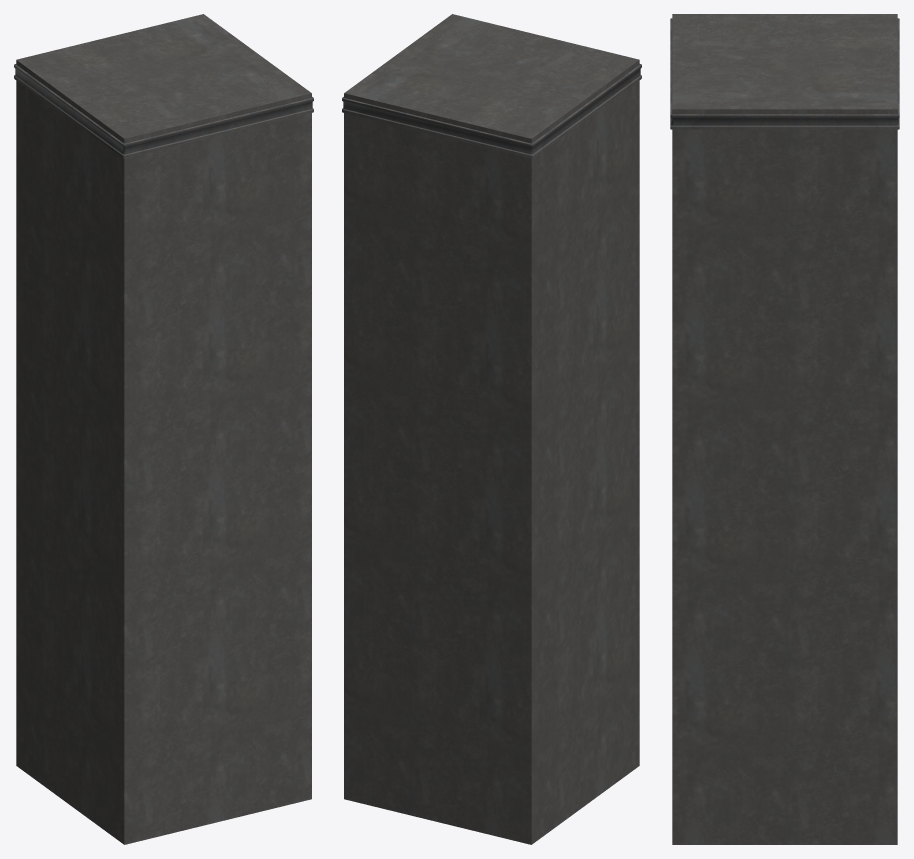
The model's file is platforme_med.fbx.
3 renders of one model, left to right at view 1: azimuth 30°, elevation 25°; view 2: azimuth 150°, elevation 25°; view 3: azimuth 270°, elevation 25°, orthographic. The views are drawn at different scales.
Parts seen in each view (by area): view 1: Box046; view 2: Box046; view 3: Box046.
Part boxes in pixels (box(x1,y1,x2,y2)): Box046: box(14, 14, 313, 844); Box046: box(342, 14, 641, 844); Box046: box(670, 14, 899, 844).
Bounding box in the file's own units: 510 × 1800 × 509.
